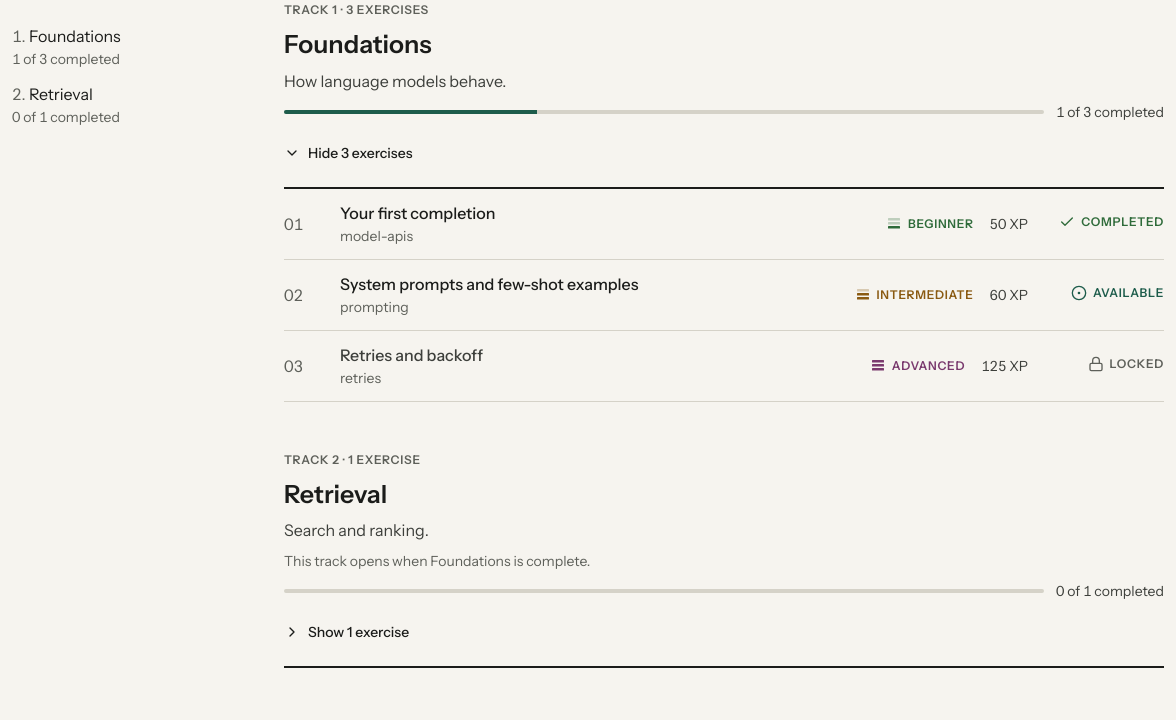
Scenario: syllabus folding › opens a folded track when its entry in the index is followed
This screenshot has width=1176, height=720.
Step 1. Click the link "2. Retrieval" → point(52, 94), box [12,84,93,104]
(page scrolled)
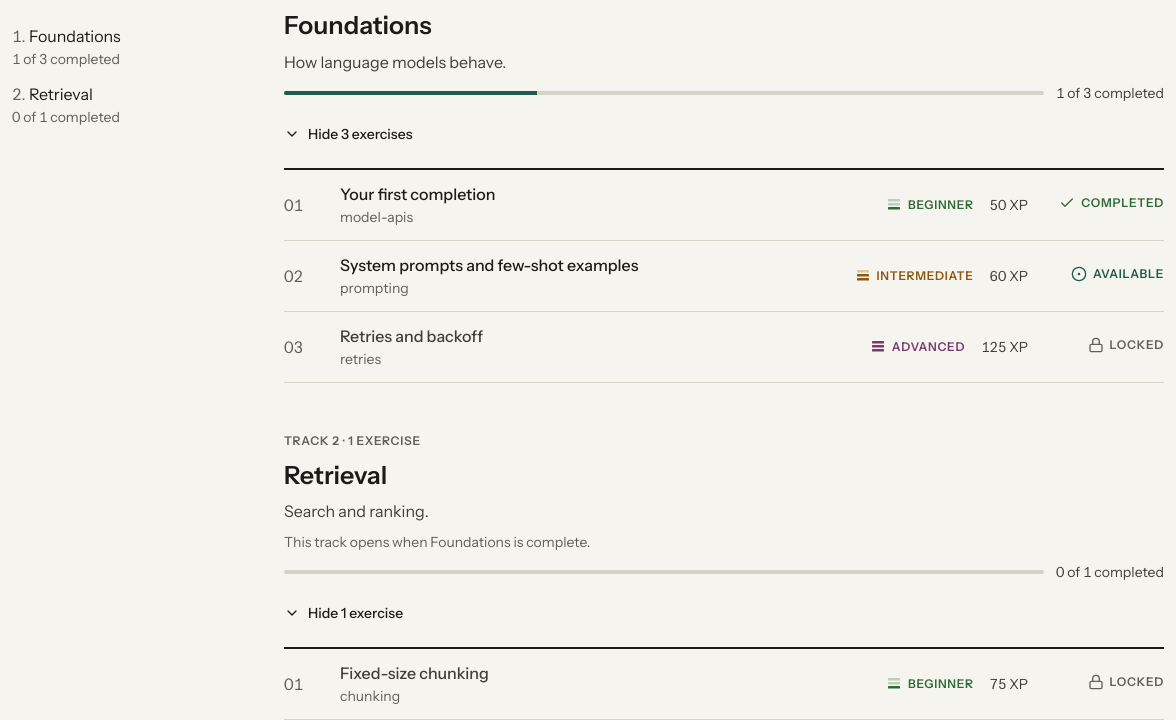
Check: the link "01 Fixed-size chunking chunking Beginner 75 XP Locked" is shown, box [284,649,1164,719]
